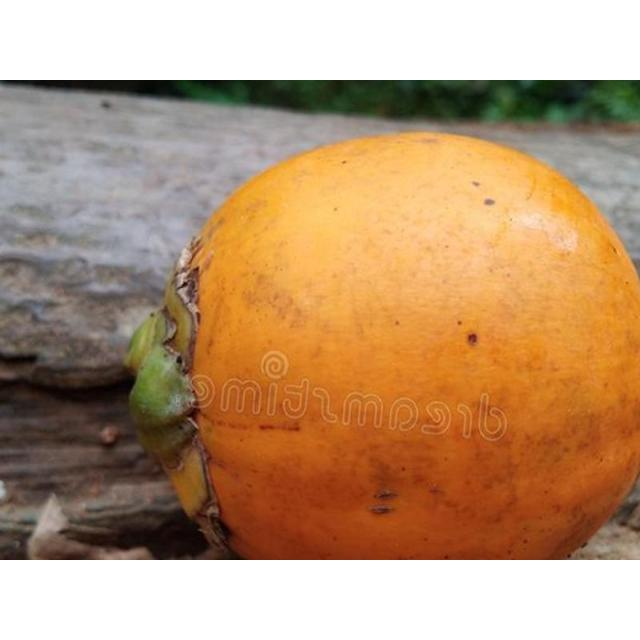good: (122, 132, 639, 559)
